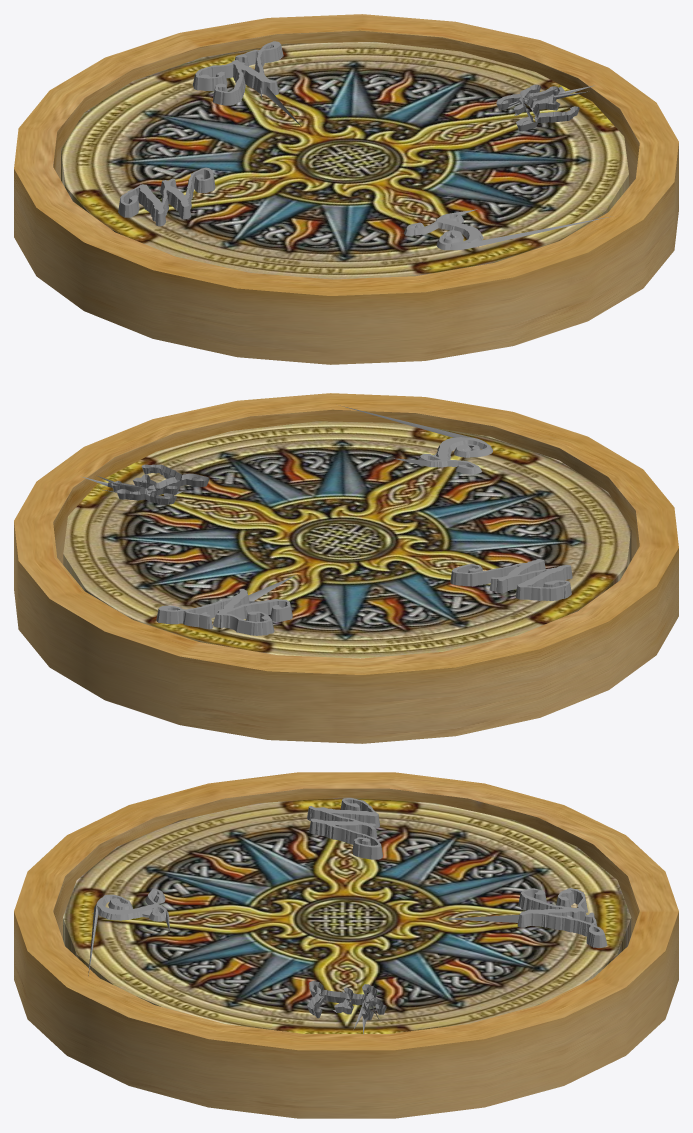
The model's file is Compass.FBX.
3 renders of one model, top to bottom at view 1: azimuth 30°, elevation 25°; view 2: azimuth 150°, elevation 25°; view 3: azimuth 270°, elevation 25°, orthographic.
Parts seen in each view (by area): view 1: Spindle001, Tube001, Text001, Text005, Text006, Text004; view 2: Spindle001, Tube001, Text001, Text005, Text006, Text004; view 3: Spindle001, Tube001, Text001, Text005, Text006, Text004.
Part boxes in pixels (<box>): Spindle001: <box>61,41,628,279</box>; Tube001: <box>14,14,678,364</box>; Text001: <box>192,41,300,125</box>; Text005: <box>118,167,215,226</box>; Text006: <box>496,84,594,131</box>; Text004: <box>404,209,610,250</box>; Spindle001: <box>63,421,631,658</box>; Tube001: <box>14,393,678,743</box>; Text001: <box>156,575,295,635</box>; Text005: <box>450,559,572,600</box>; Text006: <box>81,464,209,504</box>; Text004: <box>340,405,492,474</box>; Spindle001: <box>63,797,631,1033</box>; Tube001: <box>14,772,678,1118</box>; Text001: <box>442,888,607,947</box>; Text005: <box>307,798,382,859</box>; Text006: <box>307,981,386,1034</box>; Text004: <box>88,888,169,976</box>.
Bounding box in the file's own units: 23.38 × 3.28 × 23.62.
Materials: 6 (2 with a texture image).
